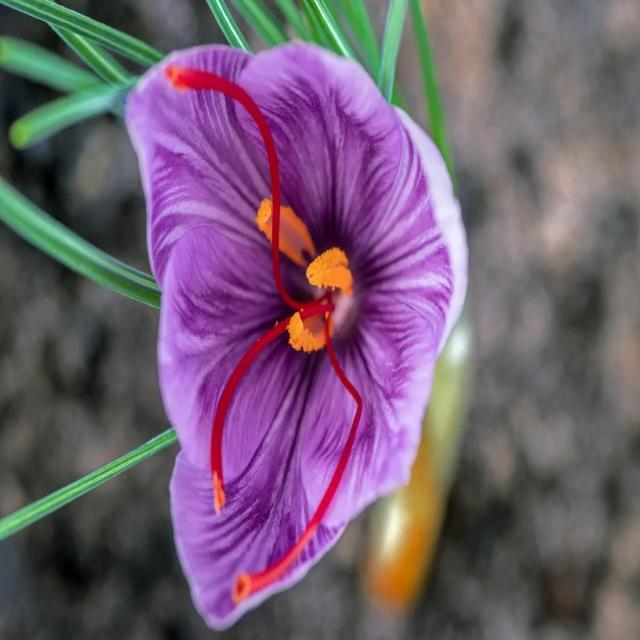Flower: (130, 70, 480, 532)
stigma: (232, 354, 375, 595), (168, 49, 288, 300), (208, 321, 284, 514)
